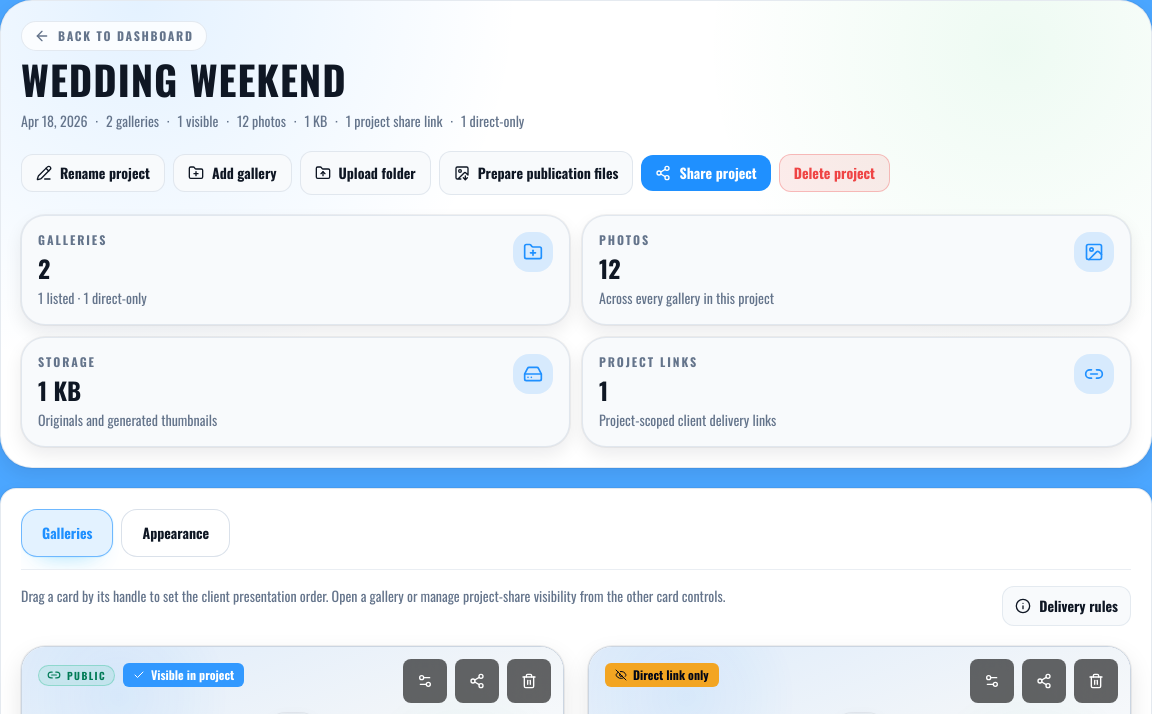
Scenario: ProjectPage › preserves other publication 404 errors: Not Found
The image size is (1152, 714).
Expected: the heading "Wedding Weekend" is shown, [21,49,347,109]
Step 1. Click the button "Prepare publication files" → [536, 173], box [439,151,633,195]
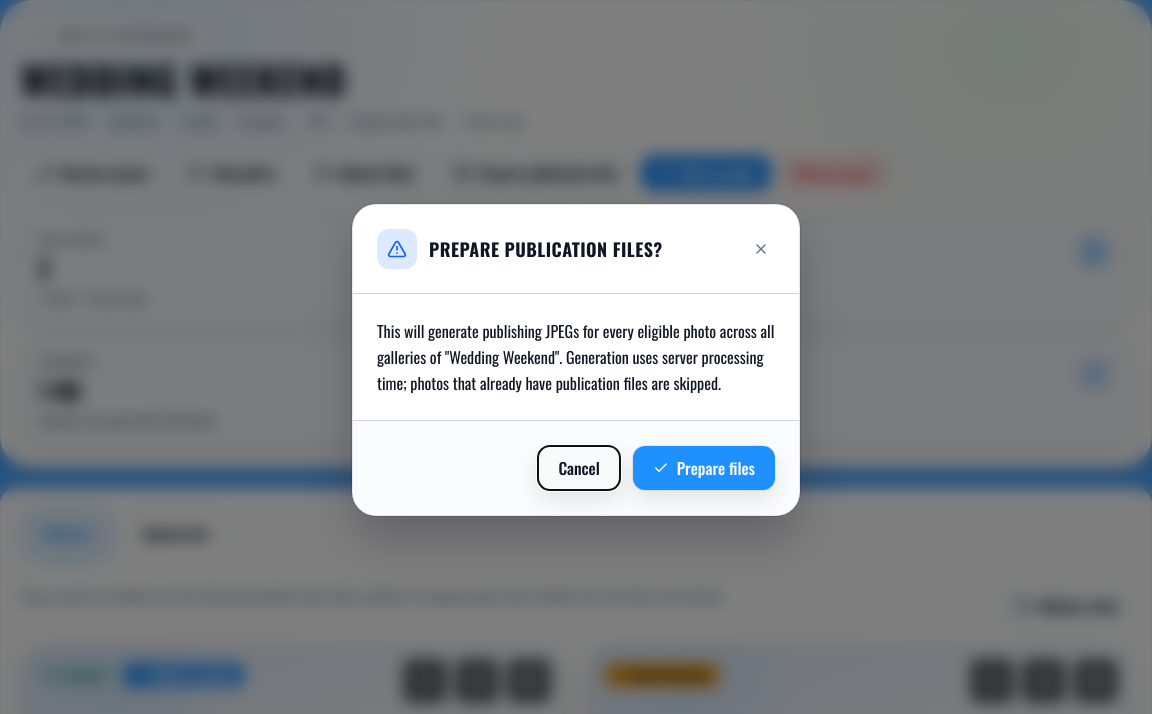
Step 2. Click the button "Prepare files" → [704, 468], box [633,446,775,490]
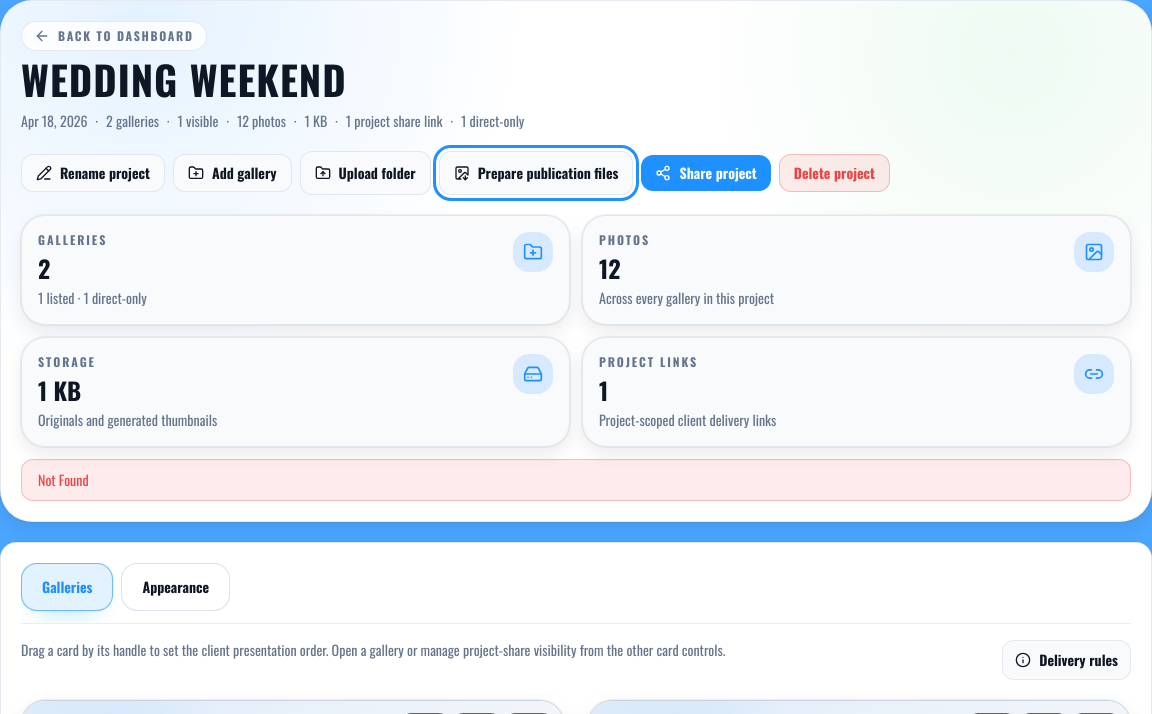
Expected: the button "Prepare publication files" is enabled, [439,151,633,195]
Expected: the text "Not Found" is shown, [21,459,1131,501]
